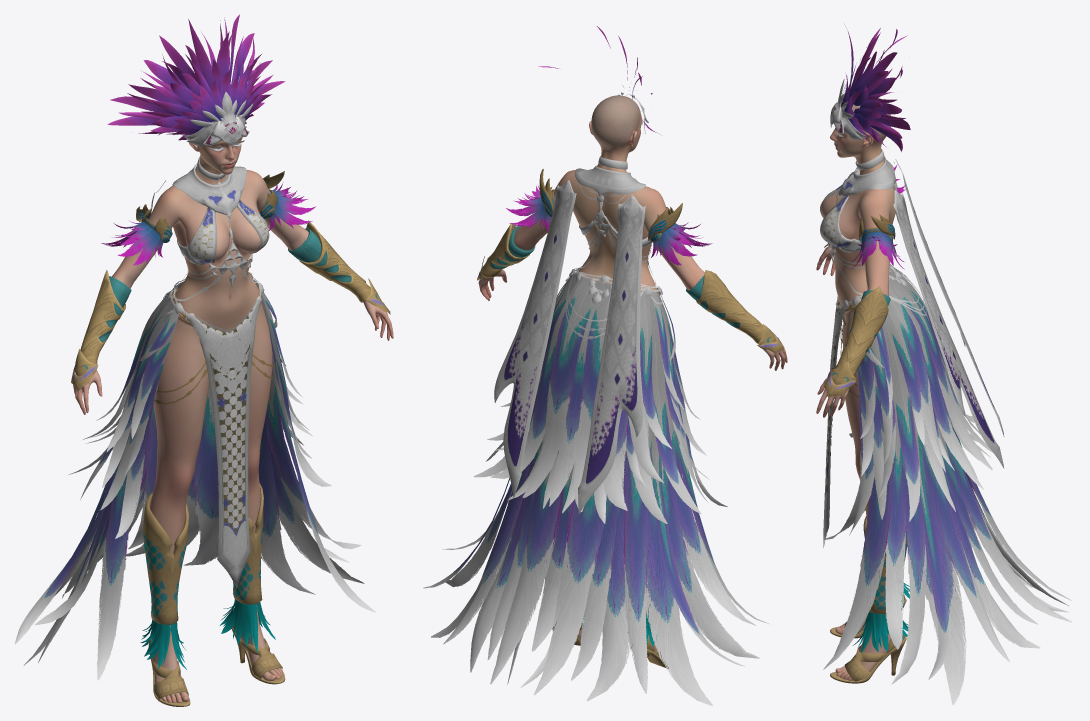
3 views of the same model, side by side, from view 1: azimuth 30°, elevation 25°; view 2: azimuth 150°, elevation 25°; view 3: azimuth 270°, elevation 25° (orthographic). The views are drawn at different scales.
Parts seen in each view (by area): view 1: GF_0072_T05_Body, GF_0072_T05_Pants, GF_0072_T05_Helmet, GF_0072_T05_Boots, GF_0072_T05_Glove, GF_0072_T05_Shoulder, GF_BaseHead; view 2: GF_0072_T05_Body, GF_0072_T05_Cape, GF_0072_T05_Glove, GF_0072_T05_Shoulder, GF_BaseHead; view 3: GF_0072_T05_Body, GF_0072_T05_Helmet, GF_0072_T05_Cape, GF_0072_T05_Boots, GF_0072_T05_Glove, GF_0072_T05_Pants, GF_0072_T05_Shoulder, GF_BaseHead.
Part boxes in pixels (box(x1,y1,x2,y2)): GF_0072_T05_Body: box(15, 156, 393, 680); GF_0072_T05_Pants: box(150, 283, 282, 702); GF_0072_T05_Helmet: box(107, 14, 285, 148); GF_0072_T05_Boots: box(140, 482, 285, 706); GF_0072_T05_Glove: box(71, 220, 390, 390); GF_0072_T05_Shoulder: box(101, 171, 315, 265); GF_BaseHead: box(188, 136, 244, 183); GF_0072_T05_Body: box(423, 156, 787, 705); GF_0072_T05_Cape: box(494, 180, 645, 514); GF_0072_T05_Glove: box(477, 222, 784, 353); GF_0072_T05_Shoulder: box(506, 169, 712, 265); GF_BaseHead: box(589, 95, 642, 172); GF_0072_T05_Body: box(816, 149, 1071, 704); GF_0072_T05_Helmet: box(830, 24, 910, 151); GF_0072_T05_Cape: box(893, 159, 1004, 468); GF_0072_T05_Boots: box(830, 507, 909, 683); GF_0072_T05_Glove: box(824, 243, 890, 397); GF_0072_T05_Pants: box(835, 272, 890, 680); GF_0072_T05_Shoulder: box(850, 164, 905, 269); GF_BaseHead: box(830, 98, 890, 174).
Bounding box in the file's own units: 1.1 × 2.07 × 0.7659.
Materials: 10 (9 with a texture image).
